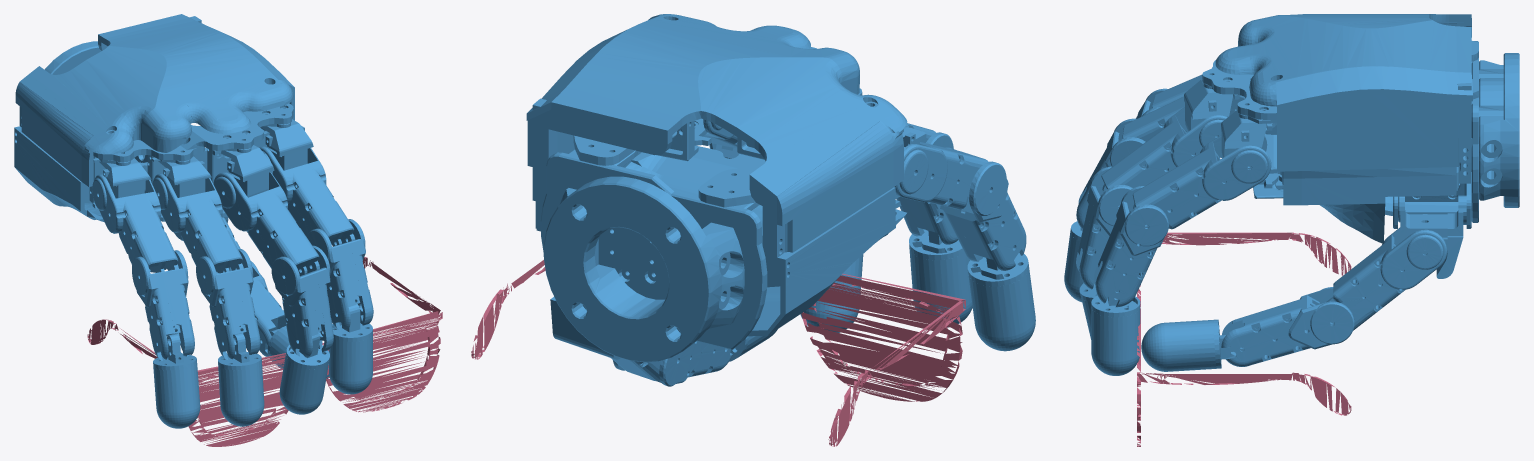
3 views of the same model, side by side, from view 1: azimuth 30°, elevation 25°; view 2: azimuth 150°, elevation 25°; view 3: azimuth 270°, elevation 25° (orthographic). The views are drawn at different scales.
Parts seen in each view (by area): view 1: 0; view 2: 0; view 3: 0.
Part boxes in pixels (left/top/right/bottom): 0: left=14, top=14, right=442, bottom=446; 0: left=471, top=14, right=1035, bottom=446; 0: left=1064, top=14, right=1519, bottom=446.
Bounding box in the file's own units: 0.1548 × 0.1536 × 0.1851.
